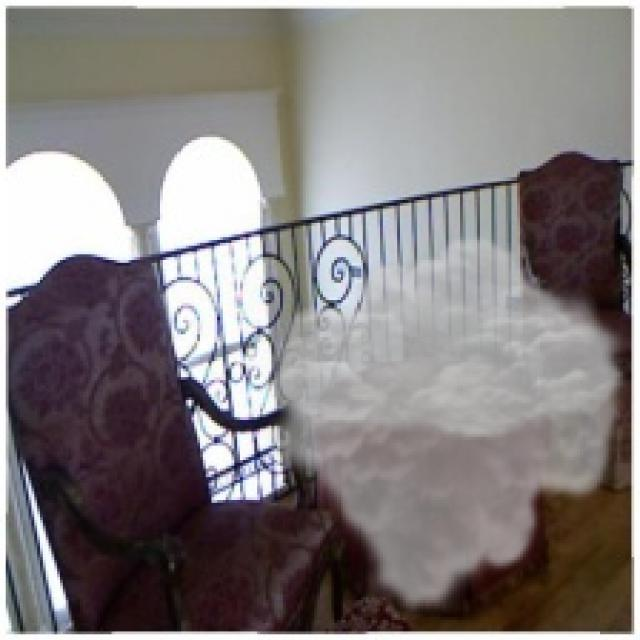smoke: (260, 232, 634, 617)
